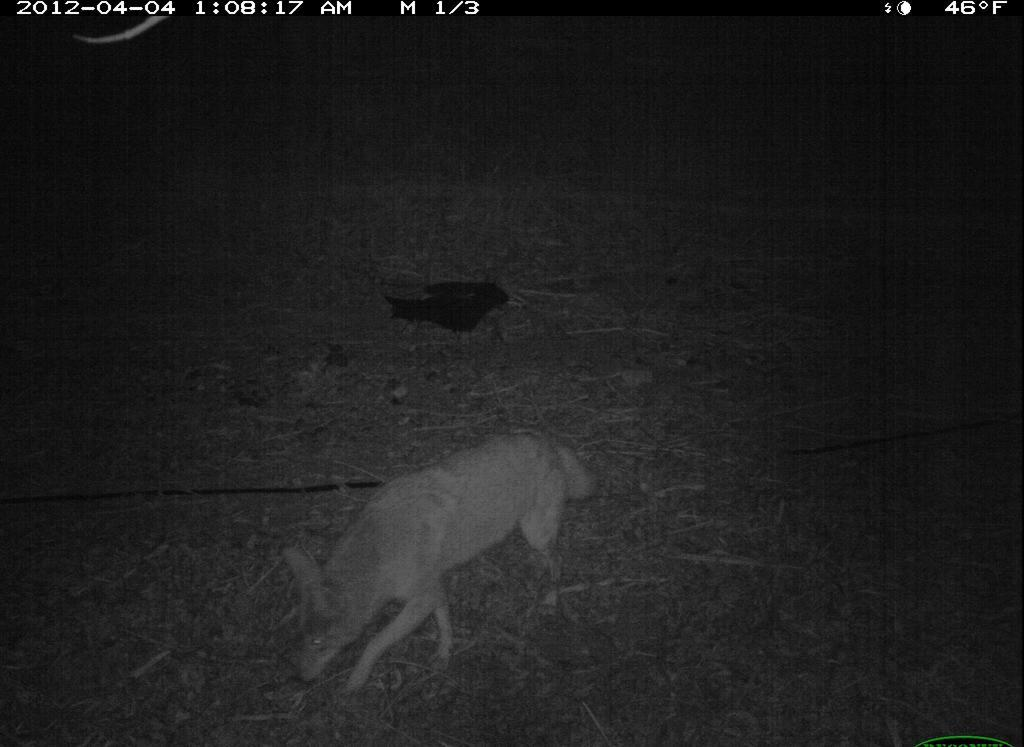coyote: (281, 414, 615, 708)
